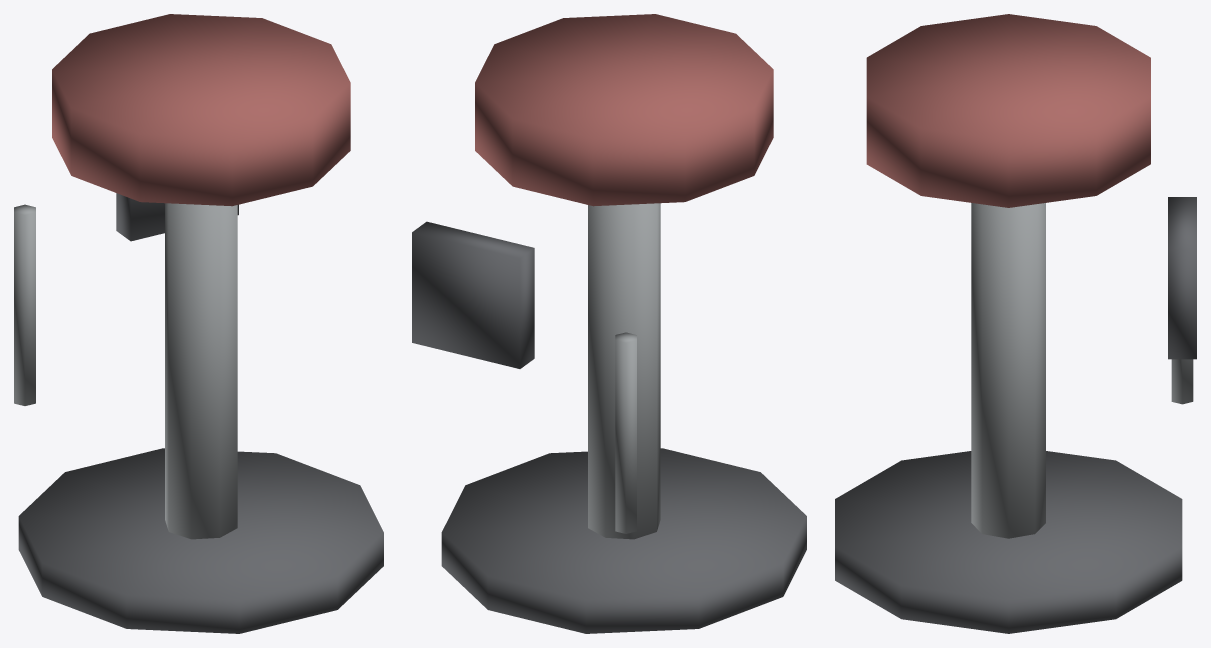
Rendered from diner_counter_stool__service.glb.
3 renders of one model, left to right at view 1: azimuth 30°, elevation 25°; view 2: azimuth 150°, elevation 25°; view 3: azimuth 270°, elevation 25°, orthographic.
Visible parts, largest first — view 1: world; view 2: world; view 3: world.
Boxes of the visible parts, <box> form: world: <box>14,14,383,633</box>; world: <box>412,14,806,633</box>; world: <box>835,14,1196,633</box>.
Size of the model in its own units: 0.44 by 0.665 by 0.436.
